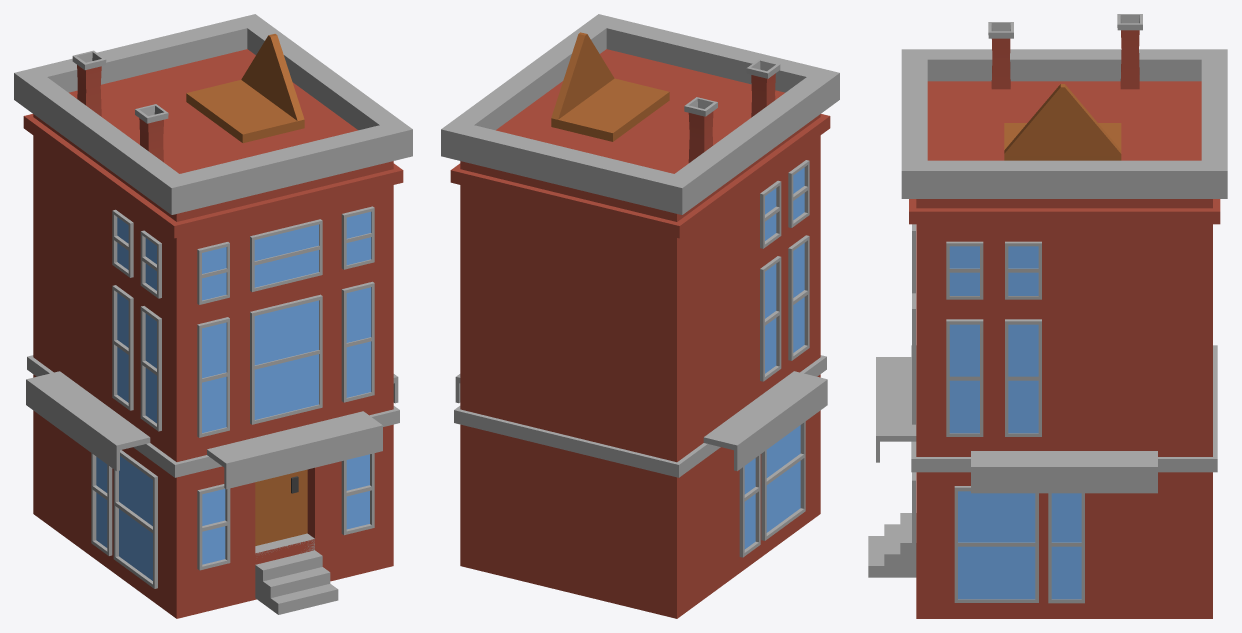
Rendered from Building 2.fbx.
3 views of the same model, side by side, from view 1: azimuth 30°, elevation 25°; view 2: azimuth 150°, elevation 25°; view 3: azimuth 270°, elevation 25° (orthographic). The views are drawn at different scales.
Visible parts, largest first — view 1: Building 2; view 2: Building 2; view 3: Building 2.
Part boxes in pixels (left/top/right/bottom): Building 2: left=14, top=14, right=412, bottom=618; Building 2: left=441, top=14, right=839, bottom=618; Building 2: left=868, top=14, right=1227, bottom=618.
Size of the model in its own units: 274 by 457 by 293.
